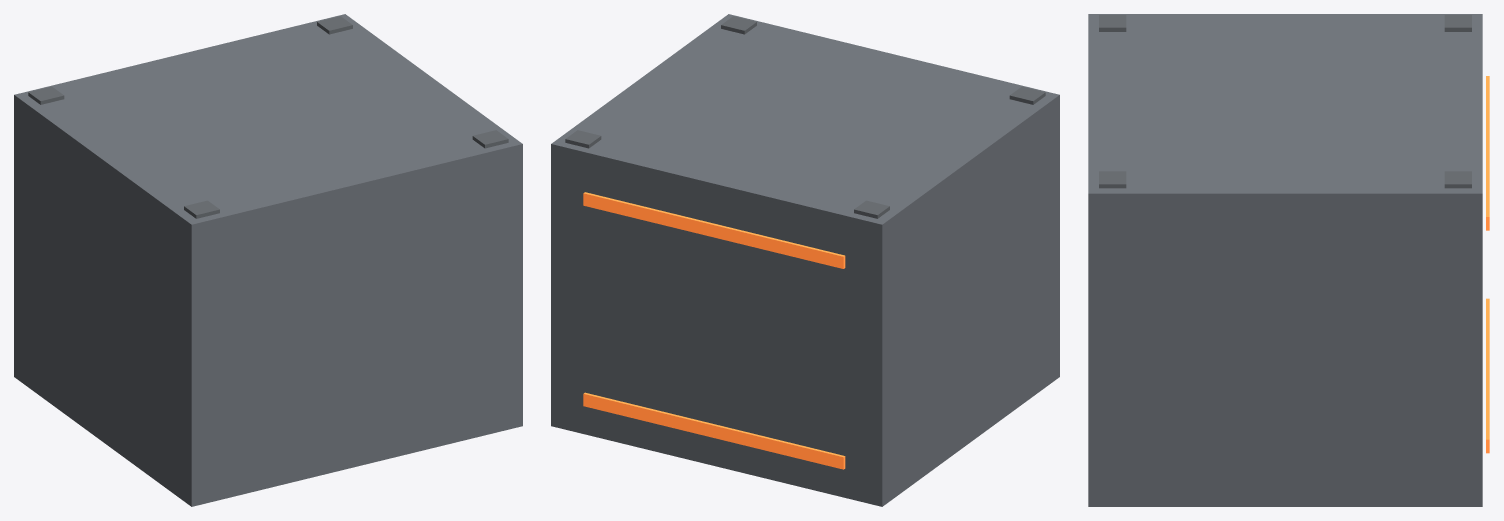
File: cargo_crate.glb
The picture shows the model from 3 angles, left to right: view 1: azimuth 30°, elevation 25°; view 2: azimuth 150°, elevation 25°; view 3: azimuth 270°, elevation 25°; orthographic projection. The views are drawn at different scales.
Parts seen in each view (by area): view 1: cargo_crate_core_1; view 2: cargo_crate_core_1, hazard_tape_6, hazard_tape_7; view 3: cargo_crate_core_1, hazard_tape_6, hazard_tape_7, vertical_corner_steel_4, vertical_corner_steel_5, vertical_corner_steel_2, vertical_corner_steel_3.
Part boxes in pixels (x1,y1,x2,y2): cargo_crate_core_1: (14, 14, 522, 506); cargo_crate_core_1: (551, 14, 1059, 506); hazard_tape_6: (583, 392, 845, 469); hazard_tape_7: (583, 192, 845, 268); cargo_crate_core_1: (1088, 14, 1482, 506); hazard_tape_6: (1486, 298, 1489, 453); hazard_tape_7: (1486, 76, 1489, 230); vertical_corner_steel_4: (1444, 171, 1471, 188); vertical_corner_steel_5: (1099, 171, 1126, 188); vertical_corner_steel_2: (1444, 15, 1471, 31); vertical_corner_steel_3: (1099, 15, 1126, 31).
Bounding box in the file's own units: 1.4 × 1.17 × 1.32.
